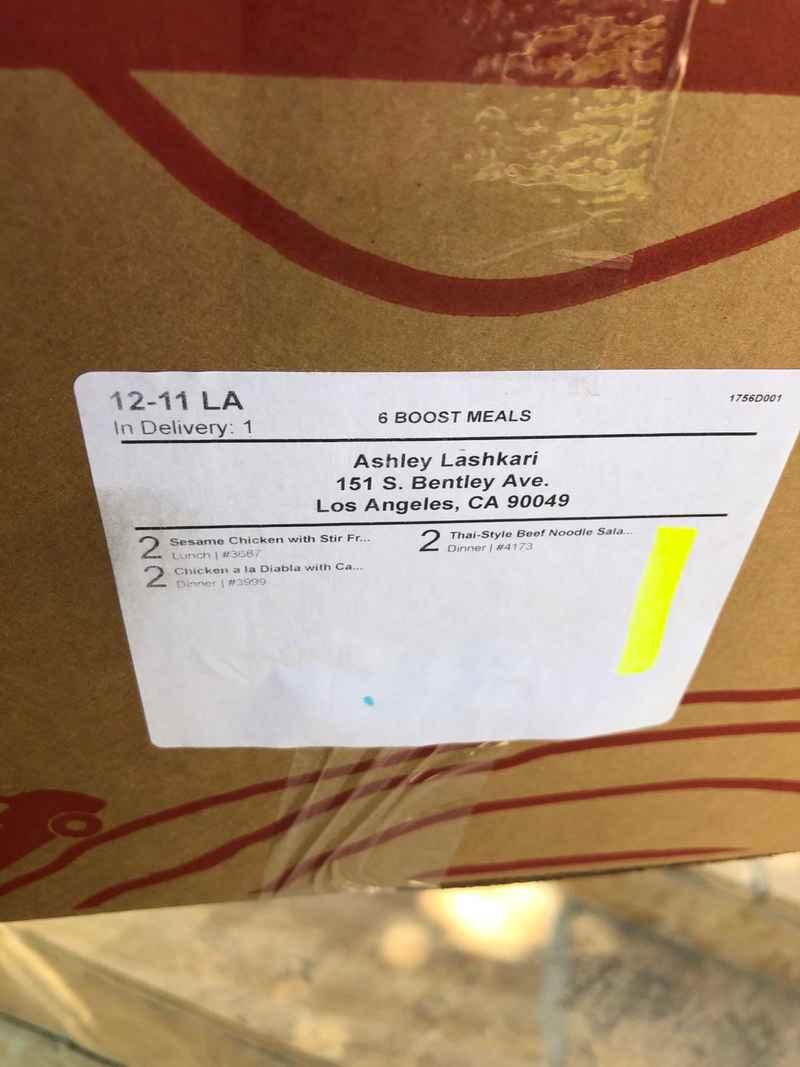package: (0, 0, 800, 927)
